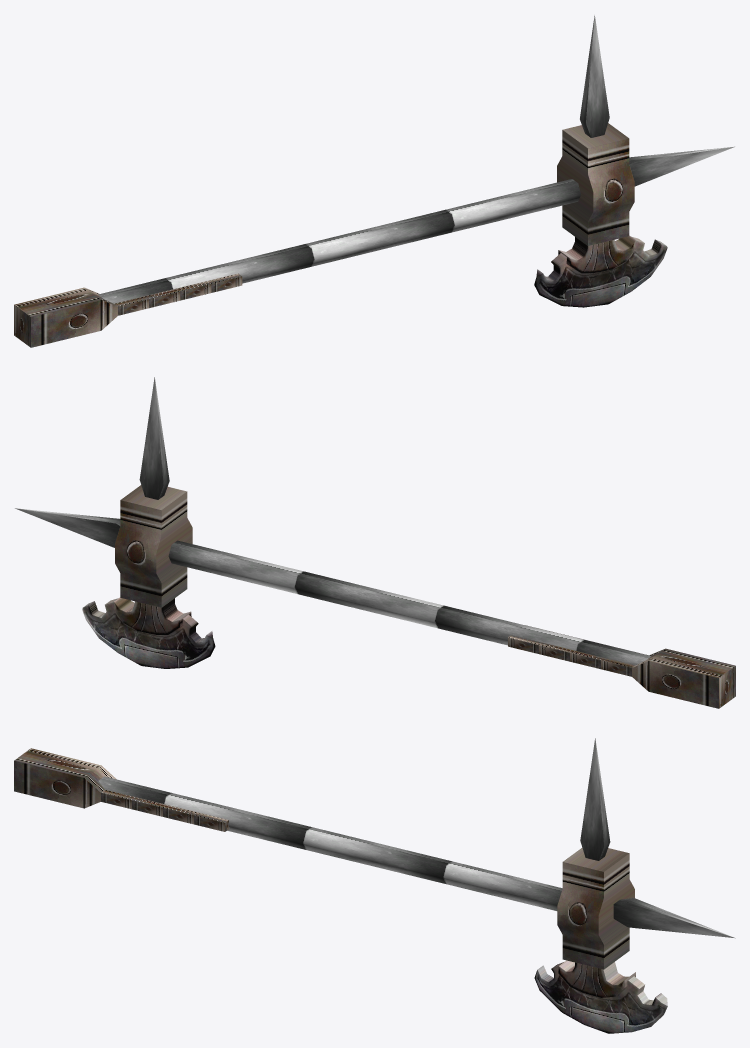
The picture shows the model from 3 angles, top to bottom: view 1: azimuth 30°, elevation 25°; view 2: azimuth 150°, elevation 25°; view 3: azimuth 330°, elevation 25°; orthographic projection.
Visible parts, largest first — view 1: it10405; view 2: it10405; view 3: it10405.
Boxes of the visible parts, box(x1,y1,x2,y2) form: it10405: box(14, 15, 734, 347); it10405: box(15, 377, 735, 708); it10405: box(14, 738, 735, 1033).
Bounding box in the file's own units: 5.22 × 2.05 × 0.4585.
Materials: 3 (3 with a texture image).
